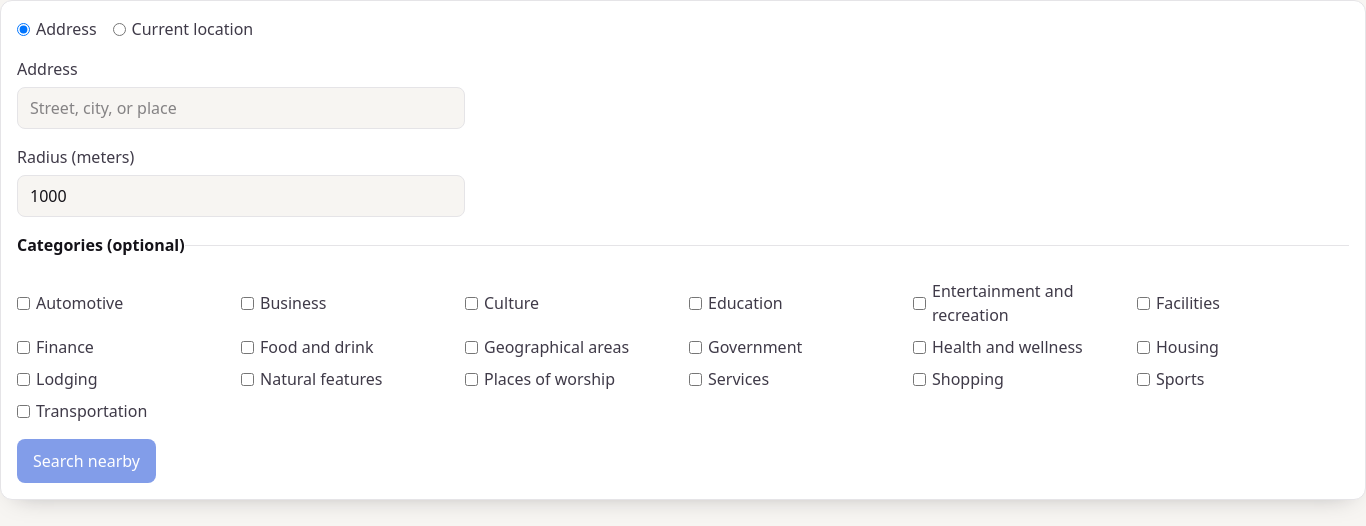
SearchForm location-mode address overlay › restores the prior typed address when switching back to address mode
Type "12 Main St" into the field labelled "Address" at (241, 108), box [17,87,465,129]
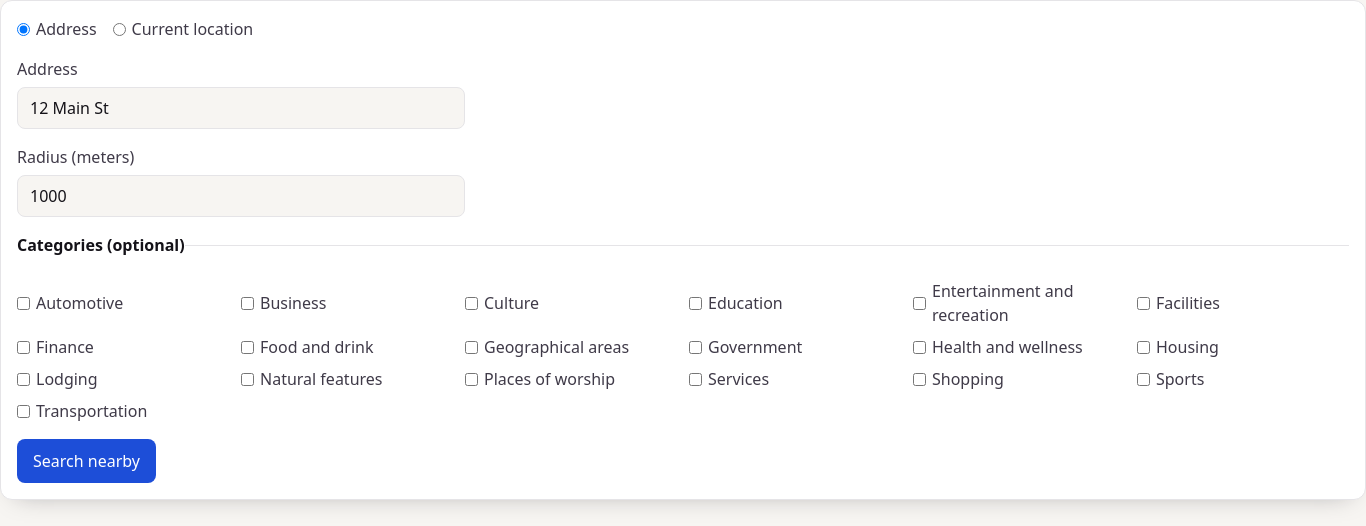
Click the radio button labelled "Current location" at (119, 29), box [112,22,126,36]
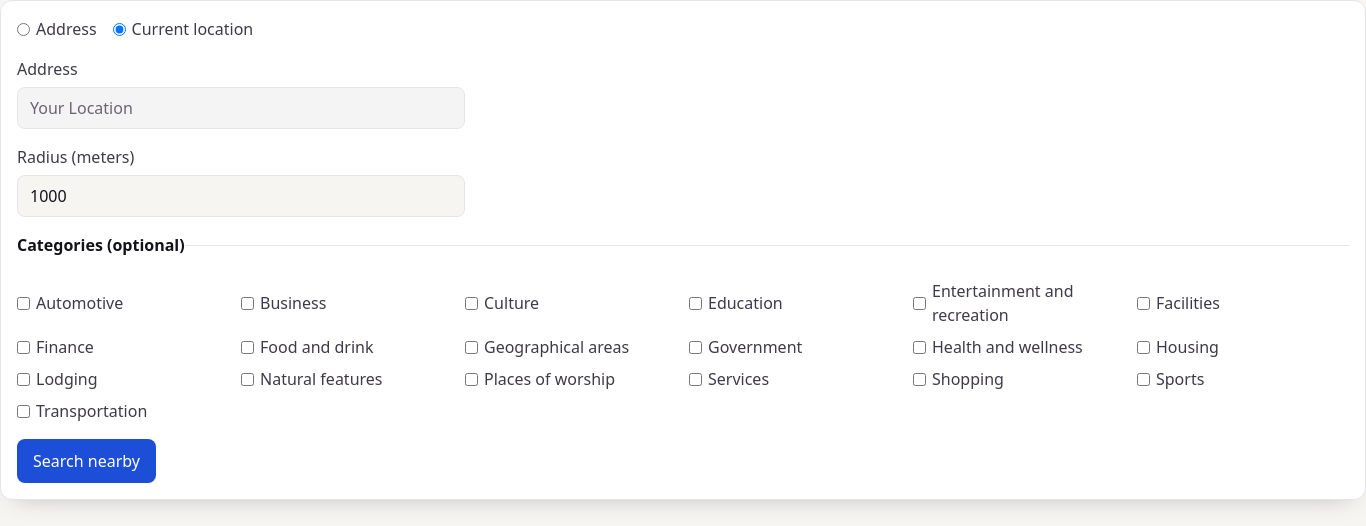
Click the radio button labelled "Address" at (24, 29), box [17,22,30,36]
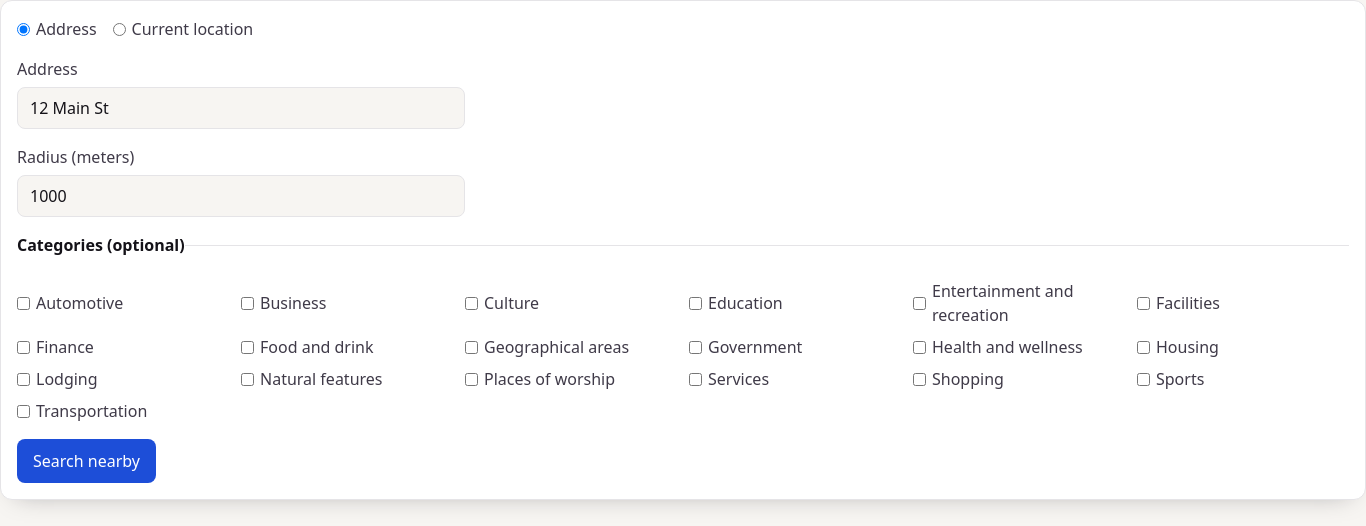
Check: the field labelled "Address" is enabled, box [17,87,465,129]
